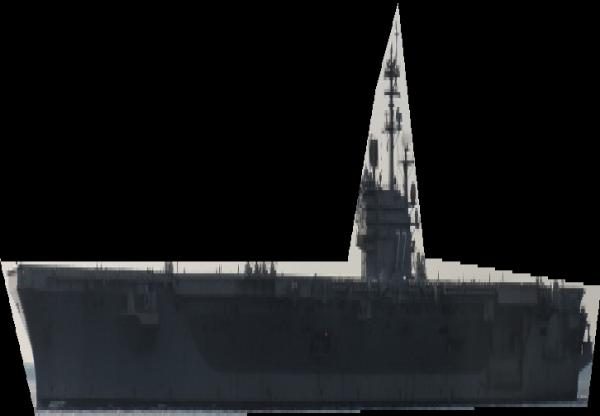Aircraft Carrier: (0, 3, 600, 416)
